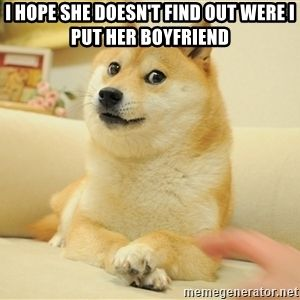doge: (83, 44, 219, 172)
